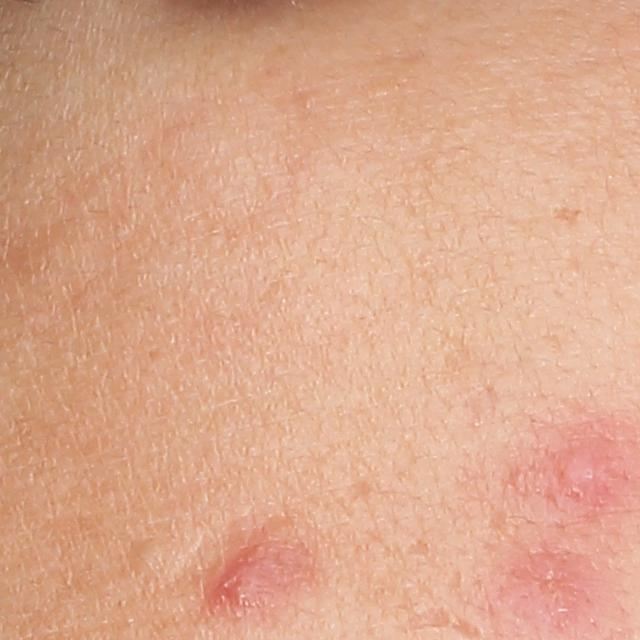comedo: (298, 90, 317, 111)
papule: (200, 533, 316, 622), (546, 431, 602, 504)
